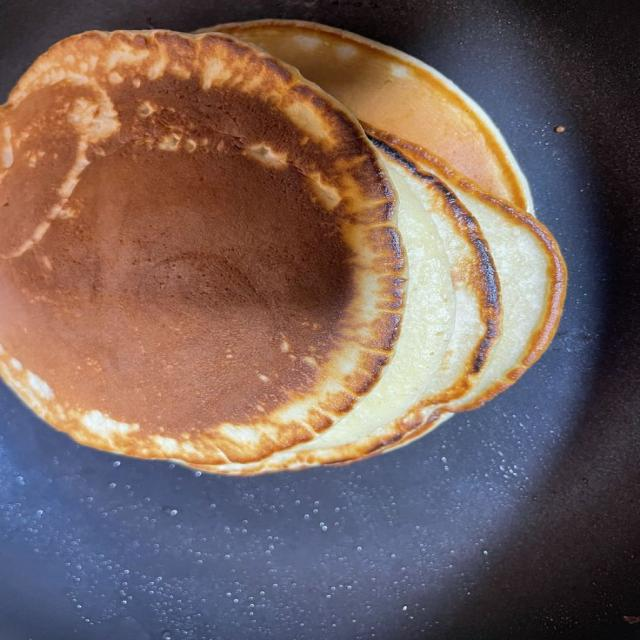pancake: (0, 32, 405, 463), (203, 128, 566, 474), (199, 141, 500, 474), (367, 129, 566, 450), (214, 20, 533, 210)
